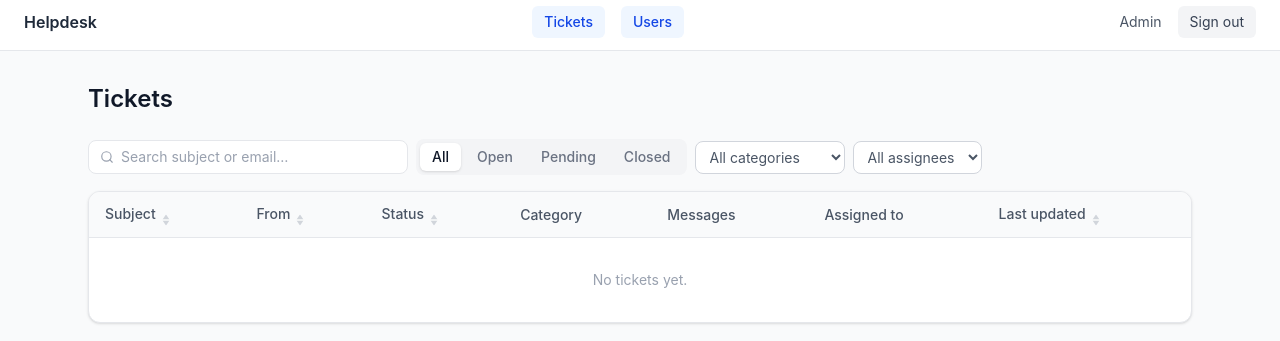
Scenario: TicketsPage — status filter › shows filtered empty state when filters are active and no results
Expected: the heading "Tickets" is shown, [88,83,173,115]
Click the button "Pending" at [568, 157], box [529,143,608,171]
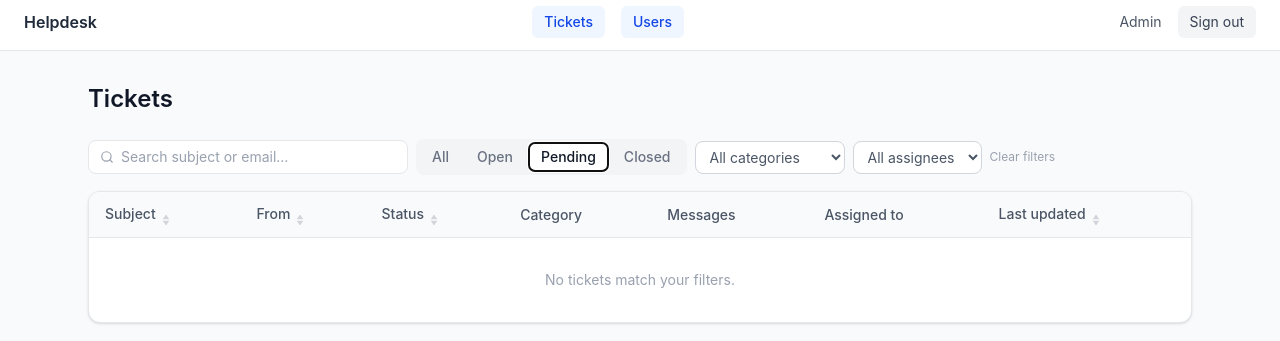
Now the text "No tickets match your filters." is shown, box [89,238,1191,322]
